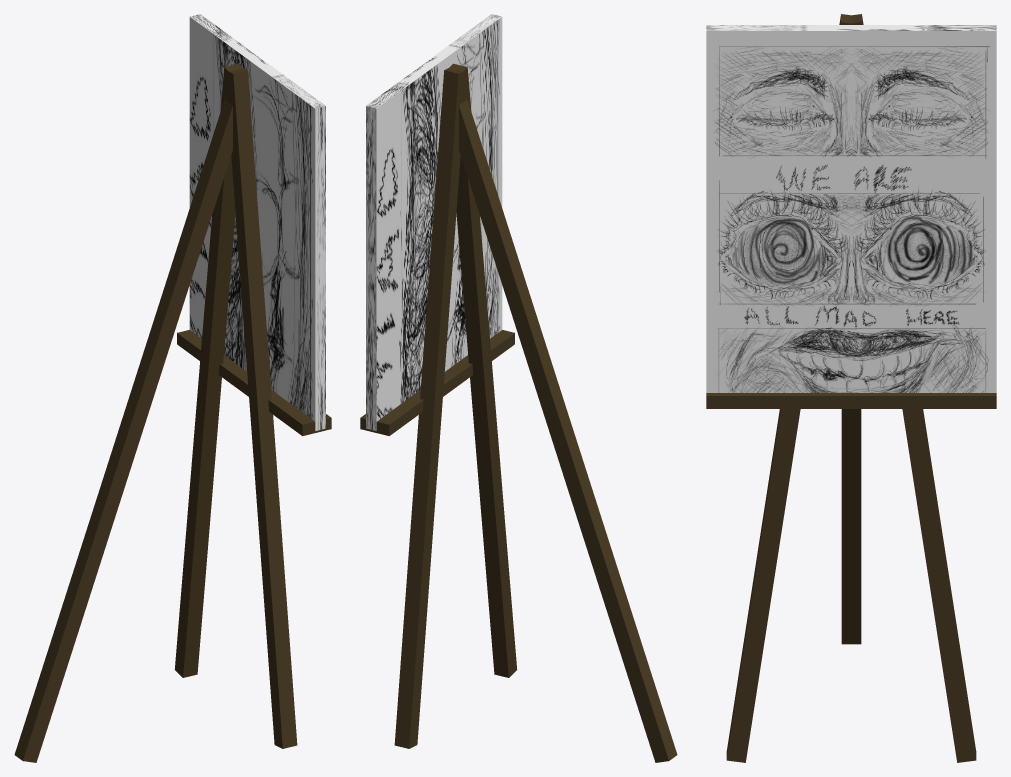
The model's file is easel.glb.
3 renders of one model, left to right at view 1: azimuth 30°, elevation 25°; view 2: azimuth 150°, elevation 25°; view 3: azimuth 270°, elevation 25°, orthographic. The views are drawn at different scales.
Visible parts, largest first — view 1: canvas; view 2: canvas; view 3: canvas.
Boxes of the visible parts, bbox=[...] form: canvas: bbox=[14, 14, 331, 762]; canvas: bbox=[360, 14, 677, 762]; canvas: bbox=[706, 14, 996, 762].
Bounding box in the file's own units: 0.6895 × 1.7 × 0.6.
Materials: 2 (1 with a texture image).
